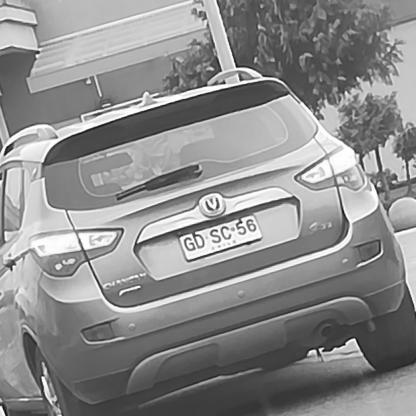Patente: (175, 213, 264, 262)
